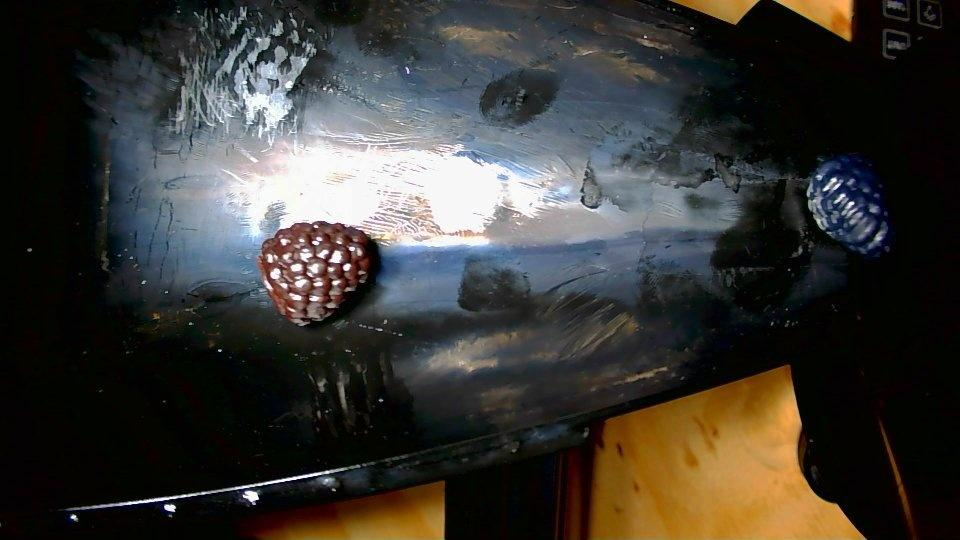berry: (257, 223, 372, 325), (807, 154, 889, 258)
